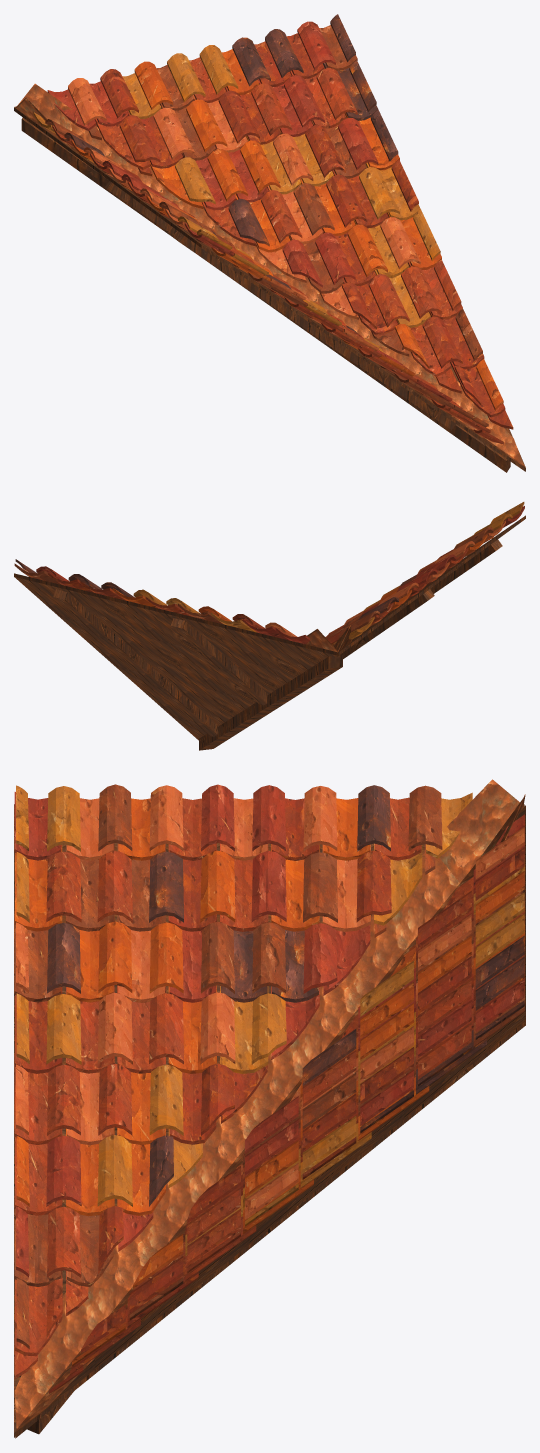
The model's file is roof_45_inner__clay_brick.glb.
3 renders of one model, top to bottom at view 1: azimuth 30°, elevation 25°; view 2: azimuth 150°, elevation 25°; view 3: azimuth 270°, elevation 25°, orthographic. The views are drawn at different scales.
Visible parts, largest first — view 1: model; view 2: model; view 3: model.
Part boxes in pixels (x1=…): model: x1=14, y1=14, x2=525, y2=472; model: x1=14, y1=502, x2=525, y2=750; model: x1=14, y1=779, x2=525, y2=1438.
Size of the model in its own units: 1.99 by 1.9 by 1.99.
Materials: 10 (10 with a texture image).
